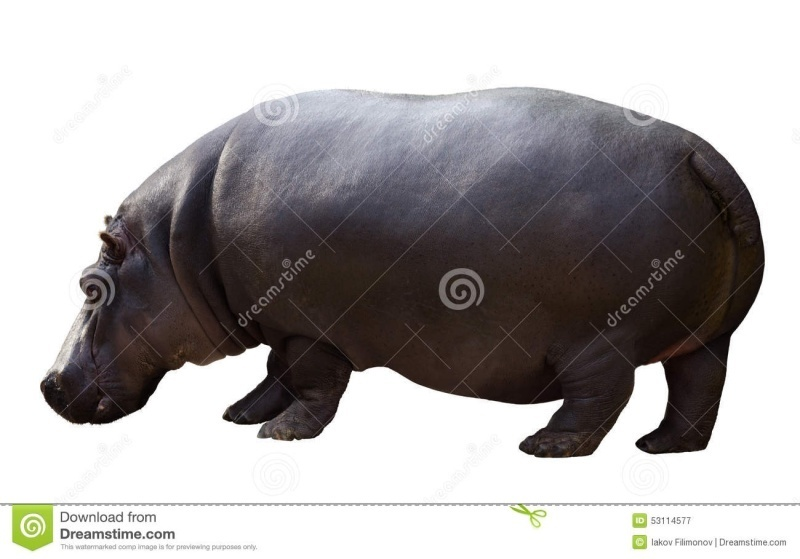hipopotamo: (30, 85, 776, 469)
